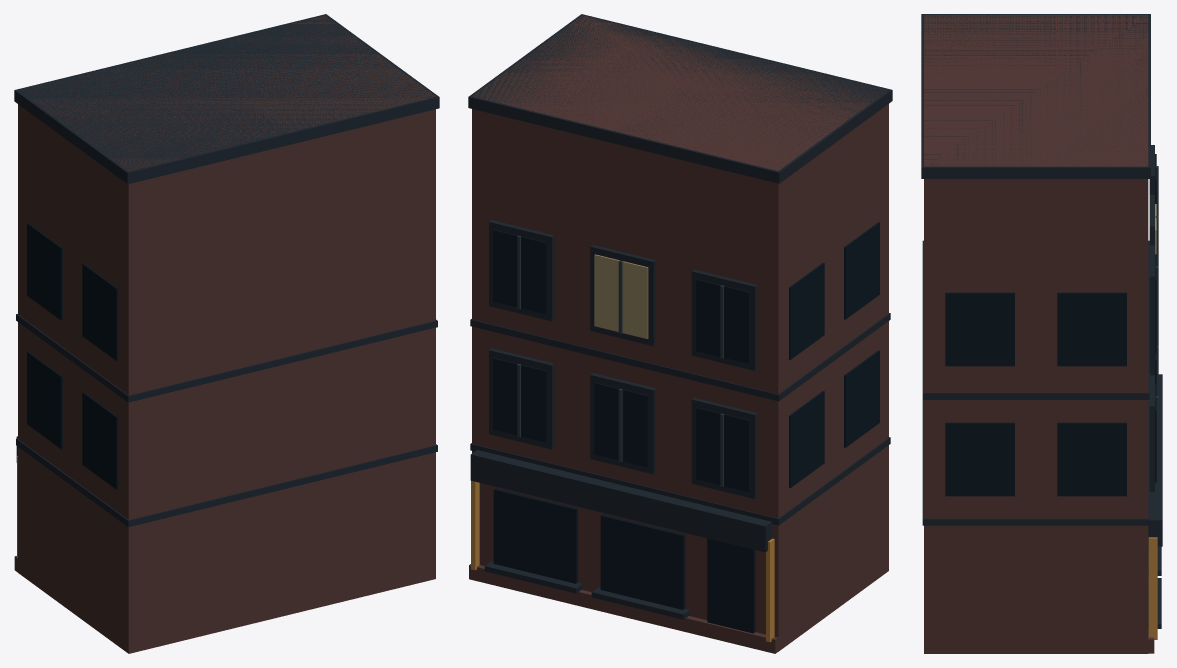
Rendered from la-city-corner-facade.glb.
3 renders of one model, left to right at view 1: azimuth 30°, elevation 25°; view 2: azimuth 150°, elevation 25°; view 3: azimuth 270°, elevation 25°, orthographic.
Parts seen in each view (by area): view 1: Surface; view 2: Surface; view 3: Surface.
Boxes of the visible parts, x1=… form: Surface: x1=14, y1=14, x2=439, y2=653; Surface: x1=468, y1=14, x2=892, y2=653; Surface: x1=921, y1=14, x2=1162, y2=653.
Size of the model in its own units: 8.12 by 12 by 5.38.
